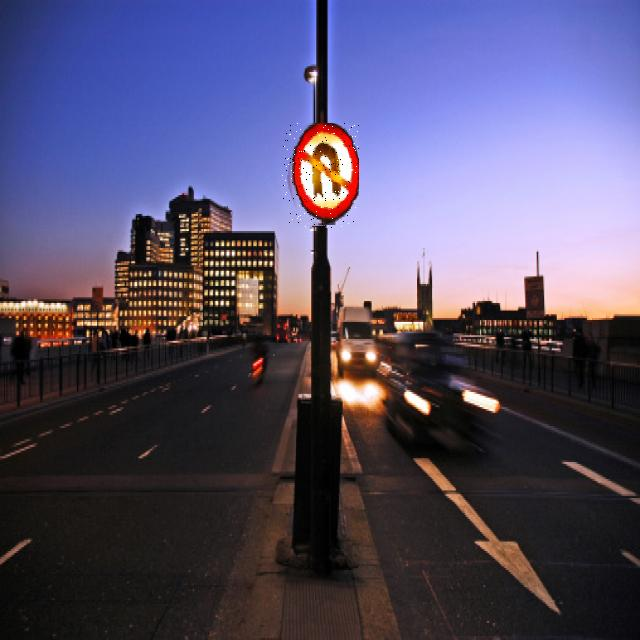no u turn: (282, 123, 359, 228)
